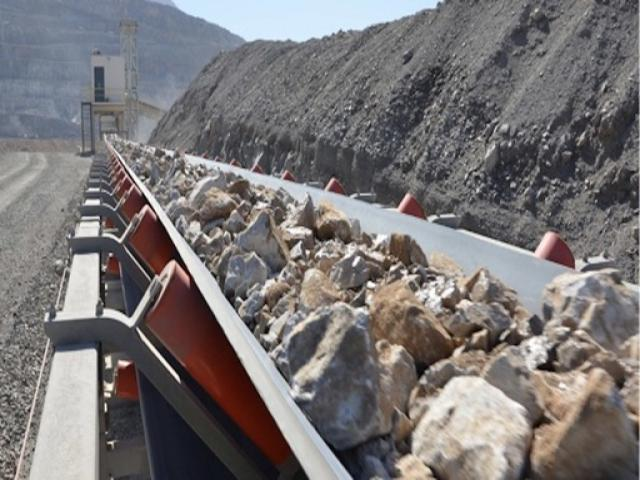conveyor: (87, 131, 640, 480)
